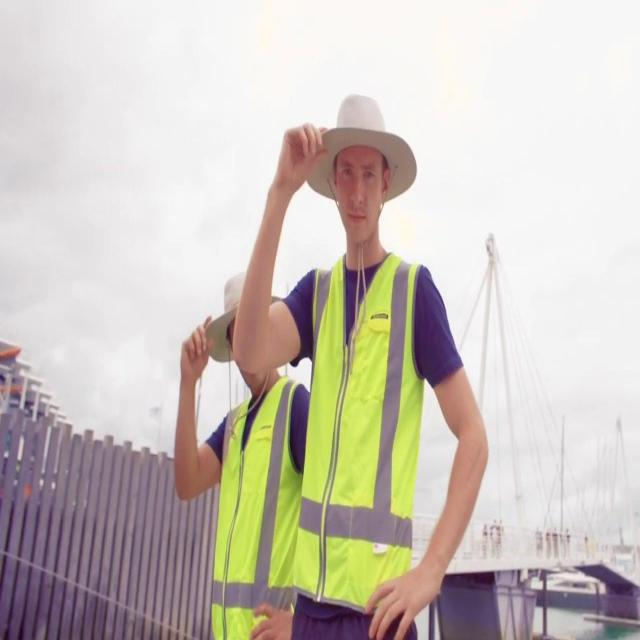Vest: (289, 246, 433, 617), (209, 377, 305, 637)
